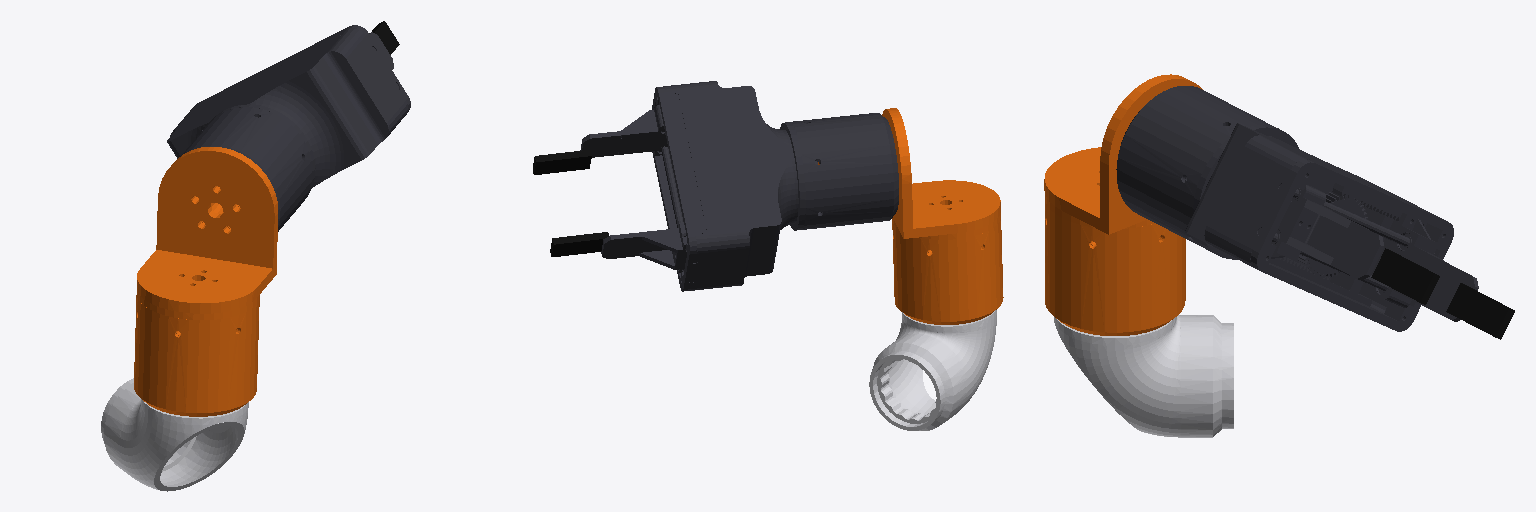
The robot description file, URDF, robot "robotic_arm":
<?xml version="1.0"?>
<robot name="robotic_arm">
  <!-- generated by tools/clean_urdf.py from the sw_urdf_exporter output; do not edit by hand -->













  <link name="world" />
  <joint name="world_to_base" type="fixed">
    <origin xyz="0 0 0.056" rpy="-1.570796 0 3.052336" />
    <parent link="world" />
    <child link="base_link" />
  </joint>
  <link name="base_link">
    <inertial>
      <origin xyz="1.6505E-05 2.7813E-08 -0.02278" rpy="0 0 0" />
      <mass value="0.6" />
      <inertia ixx="0.0034796" ixy="-1.5206E-10" ixz="5.0695E-08" iyy="0.0034797" iyz="-4.521E-09" izz="0.0067517" />
    </inertial>
    <visual>
      <origin xyz="0 0 0" rpy="0 0 0" />
      <geometry>
        <mesh filename="package://robotic_arm_description/meshes/visual/base_link.STL" />
      </geometry>
      <material name="base_link_color">
        <color rgba="0.20 0.20 0.22 1" />
      </material>
    </visual>
    <collision>
      <origin xyz="0 0 0" rpy="0 0 0" />
      <geometry>
        <mesh filename="package://robotic_arm_description/meshes/collision/base_link.stl" />
      </geometry>
    </collision>
  </link>
  <link name="shoulder_link">
    <inertial>
      <origin xyz="-0.0067002 0.083886 0.065368" rpy="0 0 0" />
      <mass value="0.6" />
      <inertia ixx="0.00046209" ixy="8.9145E-06" ixz="8.9596E-06" iyy="0.00035061" iyz="-0.00011302" izz="0.00041609" />
    </inertial>
    <visual>
      <origin xyz="0 0 0" rpy="0 0 0" />
      <geometry>
        <mesh filename="package://robotic_arm_description/meshes/visual/shoulder_link.STL" />
      </geometry>
      <material name="shoulder_link_color">
        <color rgba="0.90 0.45 0.10 1" />
      </material>
    </visual>
    <collision>
      <origin xyz="0 0 0" rpy="0 0 0" />
      <geometry>
        <mesh filename="package://robotic_arm_description/meshes/collision/shoulder_link.stl" />
      </geometry>
    </collision>
  </link>
  <joint name="base_rotation_joint" type="revolute">
    <origin xyz="0 -0.048 0" rpy="1.5708 -0.0097798 0" />
    <parent link="base_link" />
    <child link="shoulder_link" />
    <axis xyz="0 0 1" />
    <limit lower="-2.96706" upper="2.96706" effort="3.9" velocity="2.2515" />
    <dynamics damping="0.1" friction="0.3" />
  </joint>
  <link name="upper_arm_link">
    <inertial>
      <origin xyz="-0.0099574 0.036848 0.15599" rpy="0 0 0" />
      <mass value="0.75" />
      <inertia ixx="0.0028368" ixy="4.391E-05" ixz="-7.4179E-06" iyy="0.001796" iyz="0.0008611" izz="0.0014669" />
    </inertial>
    <visual>
      <origin xyz="0 0 0" rpy="0 0 0" />
      <geometry>
        <mesh filename="package://robotic_arm_description/meshes/visual/upper_arm_link.STL" />
      </geometry>
      <material name="upper_arm_link_color">
        <color rgba="0.85 0.85 0.87 1" />
      </material>
    </visual>
    <collision>
      <origin xyz="0 0 0" rpy="0 0 0" />
      <geometry>
        <mesh filename="package://robotic_arm_description/meshes/collision/upper_arm_link.stl" />
      </geometry>
    </collision>
  </link>
  <joint name="shoulder_lift_joint" type="revolute">
    <origin xyz="0 0 0.0725" rpy="-0.0081086 0.10146 -0.0004117" />
    <parent link="shoulder_link" />
    <child link="upper_arm_link" />
    <axis xyz="0.079393 -0.99684 0" />
    <limit lower="-1.74533" upper="1.74533" effort="3.9" velocity="2.2515" />
    <dynamics damping="0.1" friction="0.3" />
  </joint>
  <link name="forearm_link">
    <inertial>
      <origin xyz="-0.0043474 -0.030861 0.15122" rpy="0 0 0" />
      <mass value="0.7" />
      <inertia ixx="0.0013365" ixy="1.1293E-05" ixz="6.4546E-05" iyy="0.0013228" iyz="-0.00024084" izz="0.0003405" />
    </inertial>
    <visual>
      <origin xyz="0 0 0" rpy="0 0 0" />
      <geometry>
        <mesh filename="package://robotic_arm_description/meshes/visual/forearm_link.STL" />
      </geometry>
      <material name="forearm_link_color">
        <color rgba="0.90 0.45 0.10 1" />
      </material>
    </visual>
    <collision>
      <origin xyz="0 0 0" rpy="0 0 0" />
      <geometry>
        <mesh filename="package://robotic_arm_description/meshes/collision/forearm_link.stl" />
      </geometry>
    </collision>
  </link>
  <joint name="elbow_joint" type="revolute">
    <origin xyz="-0.0084842 -0.00067572 0.18981" rpy="0.00022095 -0.0027742 0" />
    <parent link="upper_arm_link" />
    <child link="forearm_link" />
    <axis xyz="0.079393 -0.99684 0" />
    <limit lower="-2.35619" upper="2.35619" effort="3.9" velocity="2.2515" />
    <dynamics damping="0.1" friction="0.3" />
  </joint>
  <link name="wrist_pitch_link">
    <inertial>
      <origin xyz="-0.0030507 0.064246 0.058724" rpy="0 0 0" />
      <mass value="0.25" />
      <inertia ixx="0.00027882" ixy="-1.1643E-05" ixz="1.1464E-05" iyy="0.00023868" iyz="-4.6622E-05" izz="0.00030025" />
    </inertial>
    <visual>
      <origin xyz="0 0 0" rpy="0 0 0" />
      <geometry>
        <mesh filename="package://robotic_arm_description/meshes/visual/wrist_pitch_link.STL" />
      </geometry>
      <material name="wrist_pitch_link_color">
        <color rgba="0.85 0.85 0.87 1" />
      </material>
    </visual>
    <collision>
      <origin xyz="0 0 0" rpy="0 0 0" />
      <geometry>
        <mesh filename="package://robotic_arm_description/meshes/collision/wrist_pitch_link.stl" />
      </geometry>
    </collision>
  </link>
  <joint name="wrist_pitch_joint" type="revolute">
    <origin xyz="-0.010098 0.01959 0.18981" rpy="0.013829 -0.17191 -0.0011917" />
    <parent link="forearm_link" />
    <child link="wrist_pitch_link" />
    <axis xyz="0.079393 -0.99684 0" />
    <limit lower="-2.35619" upper="2.35619" effort="3.9" velocity="2.2515" />
    <dynamics damping="0.1" friction="0.3" />
  </joint>
  <link name="wrist_roll_link">
    <inertial>
      <origin xyz="0.004083 -0.045 0.10607" rpy="0 0 0" />
      <mass value="0.3" />
      <inertia ixx="0.00038754" ixy="-7.334E-06" ixz="1.0246E-05" iyy="0.00041552" iyz="3.4998E-05" izz="0.00040093" />
    </inertial>
    <visual>
      <origin xyz="0 0 0" rpy="0 0 0" />
      <geometry>
        <mesh filename="package://robotic_arm_description/meshes/visual/wrist_roll_link.STL" />
      </geometry>
      <material name="wrist_roll_link_color">
        <color rgba="0.90 0.45 0.10 1" />
      </material>
    </visual>
    <collision>
      <origin xyz="0 0 0" rpy="0 0 0" />
      <geometry>
        <mesh filename="package://robotic_arm_description/meshes/collision/wrist_roll_link.stl" />
      </geometry>
    </collision>
  </link>
  <joint name="wrist_roll_joint" type="revolute">
    <origin xyz="-0.0038997 0.071084 0.041802" rpy="-0.027963 -0.013851 -0.76083" />
    <parent link="wrist_pitch_link" />
    <child link="wrist_roll_link" />
    <axis xyz="0.041843 0.0033326 0.99912" />
    <limit lower="-2.35619" upper="2.35619" effort="1.96" velocity="6.9813" />
    <dynamics damping="0.05" friction="0.2" />
  </joint>
  <link name="tool_flange_link">
    <inertial>
      <origin xyz="-0.0013622 -0.15682 0.000587" rpy="0 0 0" />
      <mass value="0.3" />
      <inertia ixx="0.00054395" ixy="3.5887E-06" ixz="-4.6193E-06" iyy="0.0010619" iyz="-5.3105E-07" izz="0.0010055" />
    </inertial>
    <visual>
      <origin xyz="0 0 0" rpy="0 0 0" />
      <geometry>
        <mesh filename="package://robotic_arm_description/meshes/visual/tool_flange_link.STL" />
      </geometry>
      <material name="tool_flange_link_color">
        <color rgba="0.25 0.25 0.28 1" />
      </material>
    </visual>
    <collision>
      <origin xyz="0 0 0" rpy="0 0 0" />
      <geometry>
        <mesh filename="package://robotic_arm_description/meshes/collision/tool_flange_link.stl" />
      </geometry>
    </collision>
  </link>
  <joint name="tool_rotation_joint" type="revolute">
    <origin xyz="0.0059668 0.00043094 0.13052" rpy="0.0059623 0.66657 -0.00050237" />
    <parent link="wrist_roll_link" />
    <child link="tool_flange_link" />
    <axis xyz="0.0088618 0.99995 -0.0037065" />
    <limit lower="-2.35619" upper="2.35619" effort="1.96" velocity="6.9813" />
    <dynamics damping="0.05" friction="0.2" />
  </joint>
  <link name="left_jaw_link">
    <inertial>
      <origin xyz="0 0 0" rpy="0 0 0" />
      <mass value="0.01" />
      <inertia ixx="2.021e-06" ixy="0" ixz="0" iyy="3.633e-07" iyz="0" izz="1.718e-06" />
    </inertial>
    <visual>
      <origin xyz="0 0 0" rpy="0 0 0" />
      <geometry>
        <box size="0.006 0.045 0.02" />
      </geometry>
      <material name="left_jaw_link_color">
        <color rgba="0.1 0.1 0.1 1" />
      </material>
    </visual>
    <collision>
      <origin xyz="0 0 0" rpy="0 0 0" />
      <geometry>
        <box size="0.006 0.045 0.02" />
      </geometry>
    </collision>
  </link>
  <joint name="left_jaw_joint" type="prismatic">
    <origin xyz="0.0380 -0.3015 0" rpy="0 0 0" />
    <parent link="tool_flange_link" />
    <child link="left_jaw_link" />
    <axis xyz="-1 0 0" />
    <limit lower="0" upper="0.03" effort="40.0" velocity="0.1" />
    <dynamics damping="2.0" friction="0.5" />
  </joint>
  <link name="right_jaw_link">
    <inertial>
      <origin xyz="0 0 0" rpy="0 0 0" />
      <mass value="0.01" />
      <inertia ixx="2.021e-06" ixy="0" ixz="0" iyy="3.633e-07" iyz="0" izz="1.718e-06" />
    </inertial>
    <visual>
      <origin xyz="0 0 0" rpy="0 0 0" />
      <geometry>
        <box size="0.006 0.045 0.02" />
      </geometry>
      <material name="right_jaw_link_color">
        <color rgba="0.1 0.1 0.1 1" />
      </material>
    </visual>
    <collision>
      <origin xyz="0 0 0" rpy="0 0 0" />
      <geometry>
        <box size="0.006 0.045 0.02" />
      </geometry>
    </collision>
  </link>
  <joint name="right_jaw_joint" type="prismatic">
    <origin xyz="-0.0380 -0.3015 0" rpy="0 0 0" />
    <parent link="tool_flange_link" />
    <child link="right_jaw_link" />
    <axis xyz="1 0 0" />
    <limit lower="0" upper="0.03" effort="40.0" velocity="0.1" />
    <dynamics damping="2.0" friction="0.5" />
  </joint>
  <link name="tcp" />
  <joint name="tcp_joint" type="fixed">
    <origin xyz="0 -0.31399999999999995 0" rpy="0 0 0" />
    <parent link="tool_flange_link" />
    <child link="tcp" />
  </joint>
  <ros2_control name="RoboticArmSim" type="system">
    <hardware>
      <plugin>ign_ros2_control/IgnitionSystem</plugin>
    </hardware>
    <joint name="base_rotation_joint">
      <command_interface name="effort">
        <param name="min">-3.9</param>
        <param name="max">3.9</param>
      </command_interface>
      <state_interface name="position">
        <param name="initial_value">0.0</param>
      </state_interface>
      <state_interface name="velocity" />
      <state_interface name="effort" />
    </joint>
    <joint name="shoulder_lift_joint">
      <command_interface name="effort">
        <param name="min">-3.9</param>
        <param name="max">3.9</param>
      </command_interface>
      <state_interface name="position">
        <param name="initial_value">0.0</param>
      </state_interface>
      <state_interface name="velocity" />
      <state_interface name="effort" />
    </joint>
    <joint name="elbow_joint">
      <command_interface name="effort">
        <param name="min">-3.9</param>
        <param name="max">3.9</param>
      </command_interface>
      <state_interface name="position">
        <param name="initial_value">0.0</param>
      </state_interface>
      <state_interface name="velocity" />
      <state_interface name="effort" />
    </joint>
    <joint name="wrist_pitch_joint">
      <command_interface name="effort">
        <param name="min">-3.9</param>
        <param name="max">3.9</param>
      </command_interface>
      <state_interface name="position">
        <param name="initial_value">0.0</param>
      </state_interface>
      <state_interface name="velocity" />
      <state_interface name="effort" />
    </joint>
    <joint name="wrist_roll_joint">
      <command_interface name="effort">
        <param name="min">-1.96</param>
        <param name="max">1.96</param>
      </command_interface>
      <state_interface name="position">
        <param name="initial_value">0.0</param>
      </state_interface>
      <state_interface name="velocity" />
      <state_interface name="effort" />
    </joint>
    <joint name="tool_rotation_joint">
      <command_interface name="effort">
        <param name="min">-1.96</param>
        <param name="max">1.96</param>
      </command_interface>
      <state_interface name="position">
        <param name="initial_value">0.0</param>
      </state_interface>
      <state_interface name="velocity" />
      <state_interface name="effort" />
    </joint>
    <joint name="left_jaw_joint">
      <command_interface name="effort">
        <param name="min">-40.0</param>
        <param name="max">40.0</param>
      </command_interface>
      <state_interface name="position">
        <param name="initial_value">0.0</param>
      </state_interface>
      <state_interface name="velocity" />
      <state_interface name="effort" />
    </joint>
    <joint name="right_jaw_joint">
      <command_interface name="effort">
        <param name="min">-40.0</param>
        <param name="max">40.0</param>
      </command_interface>
      <state_interface name="position">
        <param name="initial_value">0.0</param>
      </state_interface>
      <state_interface name="velocity" />
      <state_interface name="effort" />
    </joint>
  </ros2_control>
  <gazebo>
    <plugin filename="ign_ros2_control-system" name="ign_ros2_control::IgnitionROS2ControlPlugin">
      <parameters>controllers.yaml</parameters>
    </plugin>
    <plugin filename="ignition-gazebo-detachable-joint-system" name="ignition::gazebo::systems::DetachableJoint">
      <parent_link>tool_flange_link</parent_link>
      <child_model>cube_1</child_model>
      <child_link>link</child_link>
      <initial_attach>false</initial_attach>
      <detach_topic>/grasp/cube_1/detach</detach_topic>
      <attach_topic>/grasp/cube_1/attach</attach_topic>
      <output_topic>/grasp/cube_1/state</output_topic>
      <suppress_child_warning>true</suppress_child_warning>
    </plugin>
    <plugin filename="ignition-gazebo-detachable-joint-system" name="ignition::gazebo::systems::DetachableJoint">
      <parent_link>tool_flange_link</parent_link>
      <child_model>cube_2</child_model>
      <child_link>link</child_link>
      <initial_attach>false</initial_attach>
      <detach_topic>/grasp/cube_2/detach</detach_topic>
      <attach_topic>/grasp/cube_2/attach</attach_topic>
      <output_topic>/grasp/cube_2/state</output_topic>
      <suppress_child_warning>true</suppress_child_warning>
    </plugin>
    <plugin filename="ignition-gazebo-detachable-joint-system" name="ignition::gazebo::systems::DetachableJoint">
      <parent_link>tool_flange_link</parent_link>
      <child_model>cube_3</child_model>
      <child_link>link</child_link>
      <initial_attach>false</initial_attach>
      <detach_topic>/grasp/cube_3/detach</detach_topic>
      <attach_topic>/grasp/cube_3/attach</attach_topic>
      <output_topic>/grasp/cube_3/state</output_topic>
      <suppress_child_warning>true</suppress_child_warning>
    </plugin>
    <plugin filename="ignition-gazebo-detachable-joint-system" name="ignition::gazebo::systems::DetachableJoint">
      <parent_link>tool_flange_link</parent_link>
      <child_model>cube_4</child_model>
      <child_link>link</child_link>
      <initial_attach>false</initial_attach>
      <detach_topic>/grasp/cube_4/detach</detach_topic>
      <attach_topic>/grasp/cube_4/attach</attach_topic>
      <output_topic>/grasp/cube_4/state</output_topic>
      <suppress_child_warning>true</suppress_child_warning>
    </plugin>
  </gazebo>
  <gazebo reference="base_link">
    <self_collide>false</self_collide>
    <visual>
      <material>
        <ambient>0.20 0.20 0.22 1</ambient>
        <diffuse>0.20 0.20 0.22 1</diffuse>
        <specular>0.2 0.2 0.2 1</specular>
      </material>
    </visual>
  </gazebo>
  <gazebo reference="shoulder_link">
    <self_collide>false</self_collide>
    <visual>
      <material>
        <ambient>0.90 0.45 0.10 1</ambient>
        <diffuse>0.90 0.45 0.10 1</diffuse>
        <specular>0.2 0.2 0.2 1</specular>
      </material>
    </visual>
  </gazebo>
  <gazebo reference="upper_arm_link">
    <self_collide>false</self_collide>
    <visual>
      <material>
        <ambient>0.85 0.85 0.87 1</ambient>
        <diffuse>0.85 0.85 0.87 1</diffuse>
        <specular>0.2 0.2 0.2 1</specular>
      </material>
    </visual>
  </gazebo>
  <gazebo reference="forearm_link">
    <self_collide>false</self_collide>
    <visual>
      <material>
        <ambient>0.90 0.45 0.10 1</ambient>
        <diffuse>0.90 0.45 0.10 1</diffuse>
        <specular>0.2 0.2 0.2 1</specular>
      </material>
    </visual>
  </gazebo>
  <gazebo reference="wrist_pitch_link">
    <self_collide>false</self_collide>
    <visual>
      <material>
        <ambient>0.85 0.85 0.87 1</ambient>
        <diffuse>0.85 0.85 0.87 1</diffuse>
        <specular>0.2 0.2 0.2 1</specular>
      </material>
    </visual>
  </gazebo>
  <gazebo reference="wrist_roll_link">
    <self_collide>false</self_collide>
    <visual>
      <material>
        <ambient>0.90 0.45 0.10 1</ambient>
        <diffuse>0.90 0.45 0.10 1</diffuse>
        <specular>0.2 0.2 0.2 1</specular>
      </material>
    </visual>
  </gazebo>
  <gazebo reference="tool_flange_link">
    <self_collide>false</self_collide>
    <visual>
      <material>
        <ambient>0.25 0.25 0.28 1</ambient>
        <diffuse>0.25 0.25 0.28 1</diffuse>
        <specular>0.2 0.2 0.2 1</specular>
      </material>
    </visual>
  </gazebo>
  <gazebo reference="left_jaw_link">
    <mu1>1.0</mu1>
    <mu2>1.0</mu2>
  </gazebo>
  <gazebo reference="right_jaw_link">
    <mu1>1.0</mu1>
    <mu2>1.0</mu2>
  </gazebo>
  <gazebo reference="tcp_joint">
    <preserveFixedJoint>true</preserveFixedJoint>
  </gazebo>
</robot>

--- Render facts (derived) ---
The picture shows the robot from 3 angles, left to right: view 1: azimuth 30°, elevation 25°; view 2: azimuth 150°, elevation 25°; view 3: azimuth 270°, elevation 25°; orthographic projection.
Robot: robotic_arm — 11 links, 10 joints (6 revolute, 2 prismatic, 2 fixed); root link world; default pose: every joint at zero.
Visible links, largest first — view 1: wrist_roll_link, tool_flange_link, wrist_pitch_link; view 2: tool_flange_link, wrist_roll_link, wrist_pitch_link, right_jaw_link, left_jaw_link; view 3: tool_flange_link, wrist_roll_link, wrist_pitch_link, left_jaw_link, right_jaw_link.
Boxes of the visible links, x1,y1,x2,y2 form: wrist_roll_link: [134, 147, 277, 416]; tool_flange_link: [167, 25, 410, 231]; wrist_pitch_link: [101, 378, 248, 491]; tool_flange_link: [580, 81, 898, 291]; wrist_roll_link: [818, 108, 1003, 324]; wrist_pitch_link: [869, 310, 996, 430]; right_jaw_link: [533, 150, 591, 174]; left_jaw_link: [550, 232, 608, 256]; tool_flange_link: [1116, 86, 1478, 331]; wrist_roll_link: [1044, 74, 1202, 335]; wrist_pitch_link: [1054, 315, 1233, 437]; left_jaw_link: [1446, 283, 1514, 339]; right_jaw_link: [1371, 248, 1439, 304].
Bounding box of the posed robot: 0.3151 × 0.2878 × 0.2756 m (x, y, z).
3 mesh visuals loaded from 7 distinct referenced files (3 binary STL); not drawn: 4 (reference not matched to a file when rendering).
